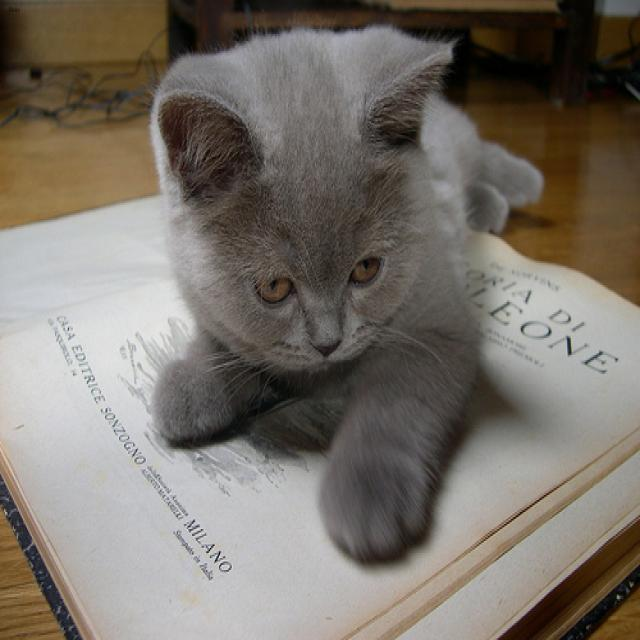British_Shorthair: (151, 43, 451, 369)
